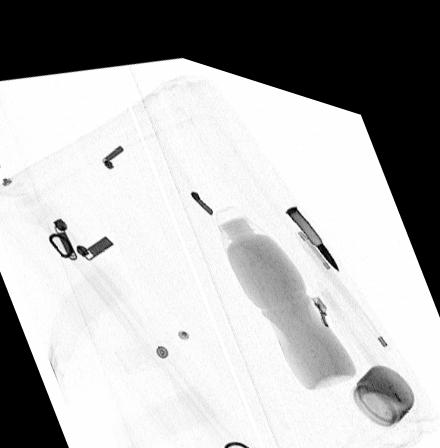Bullet: (284, 188, 338, 250)
